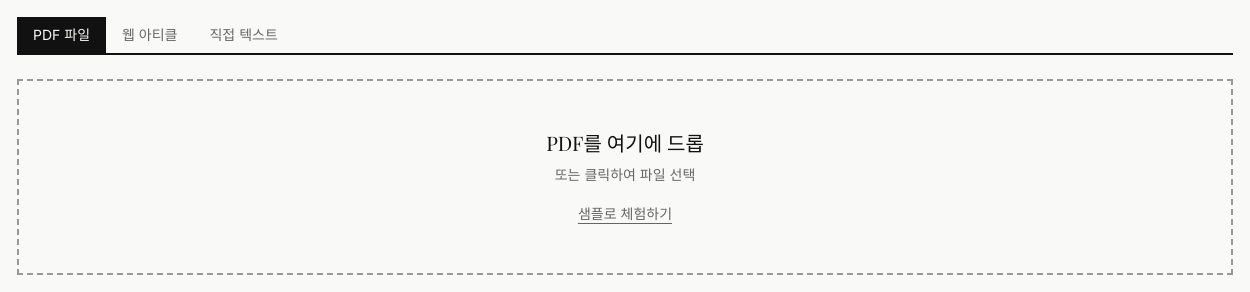
Test: ContentSelector › 탭 전환: PDF ↔ 웹 아티클
Expected: the text "PDF를 여기에 드롭" is shown, left=546, top=129, right=704, bottom=156
# Switch to article tab
What coordinates should you click on to do the following:
click the button "웹 아티클"
I would click on:
 (150, 35)
Its box is left=106, top=17, right=194, bottom=53.
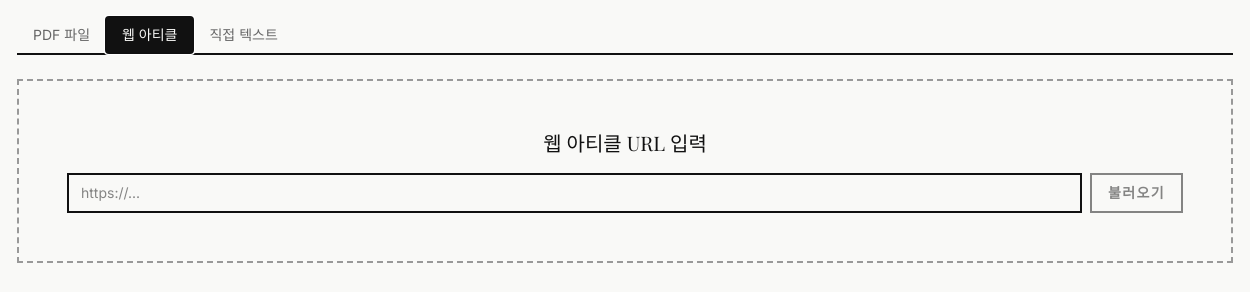
Result: the text "웹 아티클 URL 입력" is shown at left=543, top=129, right=707, bottom=156
Result: the text "PDF를 여기에 드롭" is gone
# Switch back to PDF tab
What coordinates should you click on to do the following:
click the button "PDF 파일"
I would click on:
 (62, 35)
Its box is left=17, top=17, right=106, bottom=53.
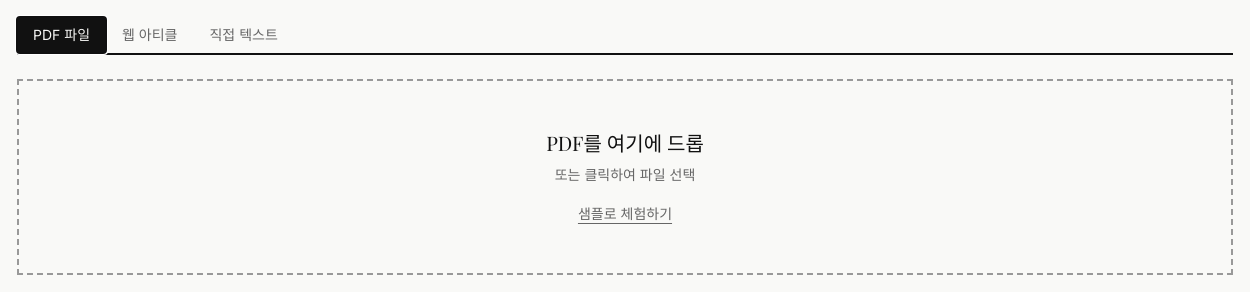
Result: the text "PDF를 여기에 드롭" is shown at left=546, top=129, right=704, bottom=156
